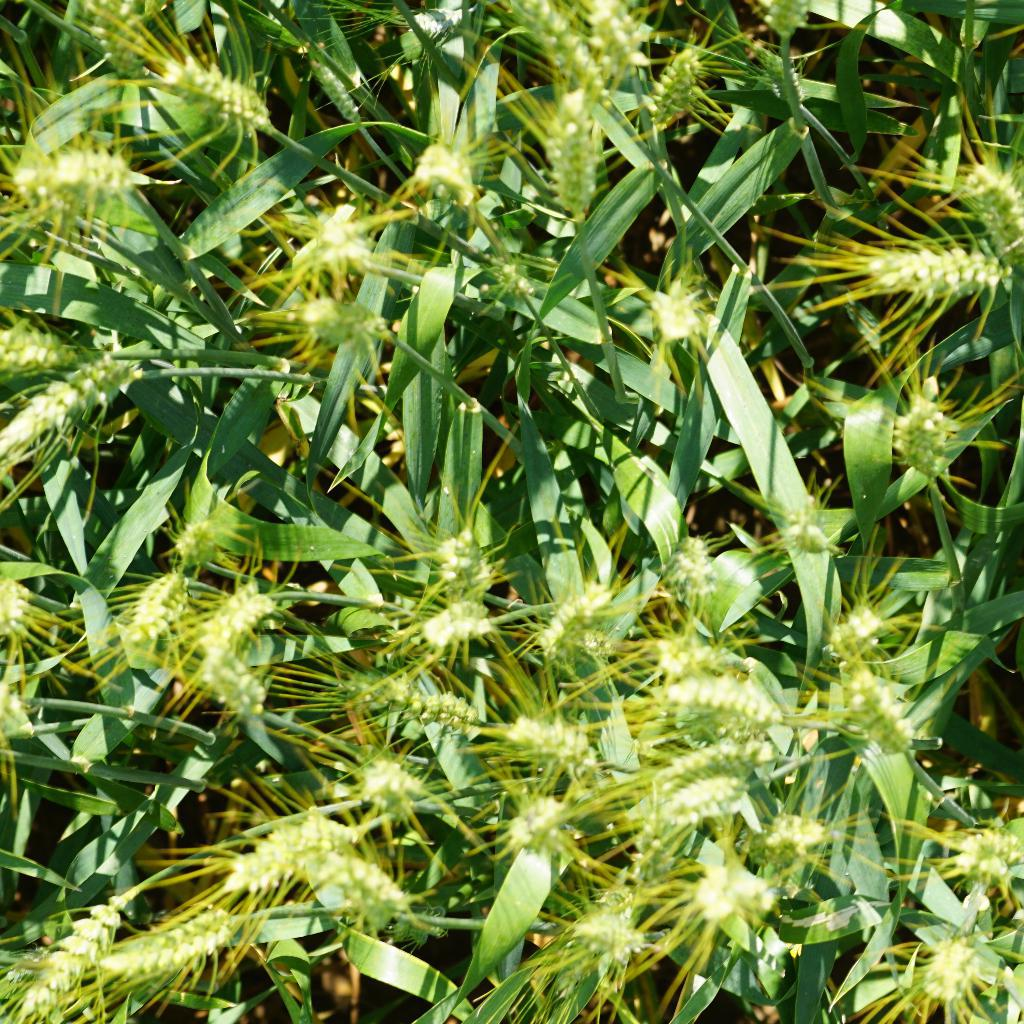0-0: (3, 871, 135, 1024), (0, 356, 156, 481), (634, 661, 785, 755), (836, 232, 1023, 302), (325, 665, 494, 739), (189, 576, 279, 709), (2, 134, 167, 206), (160, 52, 287, 144), (620, 759, 757, 840), (544, 893, 668, 979), (538, 86, 609, 234), (232, 817, 350, 904), (484, 792, 613, 869), (885, 915, 980, 1013), (384, 590, 508, 661), (111, 911, 247, 974), (837, 677, 929, 770), (881, 370, 955, 484), (317, 851, 415, 937), (526, 559, 610, 658), (294, 197, 385, 286), (635, 270, 719, 364), (407, 125, 491, 218), (126, 561, 191, 671), (283, 291, 386, 360), (347, 758, 459, 821), (490, 0, 590, 67), (623, 626, 739, 683), (953, 161, 1024, 251), (576, 0, 654, 78), (499, 709, 595, 772), (425, 534, 523, 594), (695, 863, 778, 933), (86, 0, 151, 88), (0, 315, 107, 366), (752, 798, 845, 855), (938, 817, 1024, 877), (302, 52, 365, 133), (749, 37, 810, 117), (808, 606, 888, 665), (660, 36, 712, 126), (479, 239, 539, 312), (656, 537, 731, 595), (149, 505, 225, 561), (390, 1, 478, 47), (783, 519, 852, 568)
